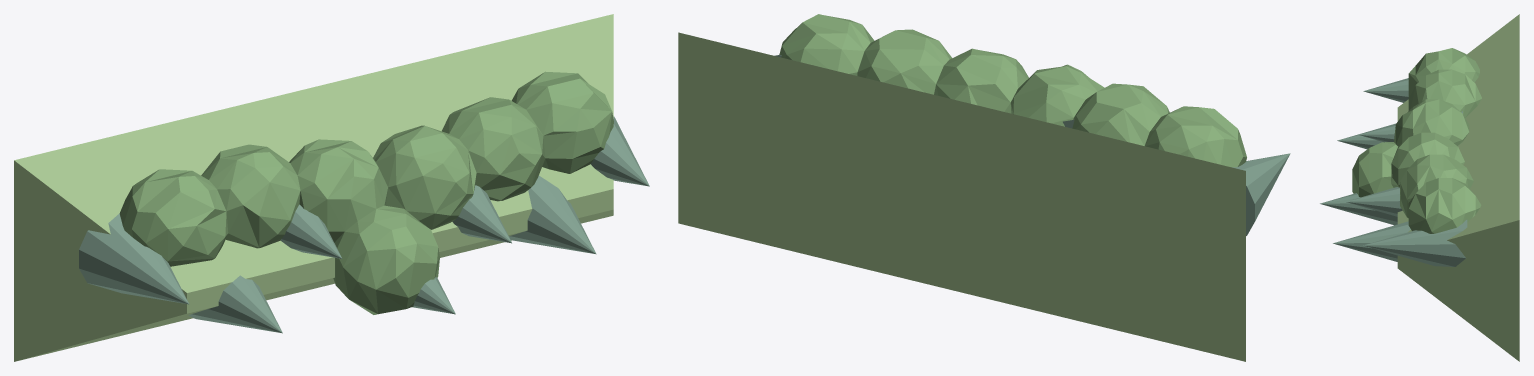
Rendered from r-11-bystrc-forested-ridge.lod1.glb.
3 renders of one model, left to right at view 1: azimuth 30°, elevation 25°; view 2: azimuth 150°, elevation 25°; view 3: azimuth 270°, elevation 25°, orthographic. The views are drawn at different scales.
Visible parts, largest first — view 1: hill, broadleaf, pines; view 2: hill, broadleaf, pines; view 3: hill, broadleaf, pines.
Part boxes in pixels (x1,y1,x2,y2): hill: (14,14,613,361); broadleaf: (119,71,613,314); pines: (79,116,649,333); hill: (678,32,1245,361); broadleaf: (779,14,1246,167); pines: (774,55,1290,235); hill: (1397,14,1519,361); broadleaf: (1352,48,1481,233); pines: (1320,78,1467,266).
Size of the model in its own units: 56000 by 18433 by 23002.
